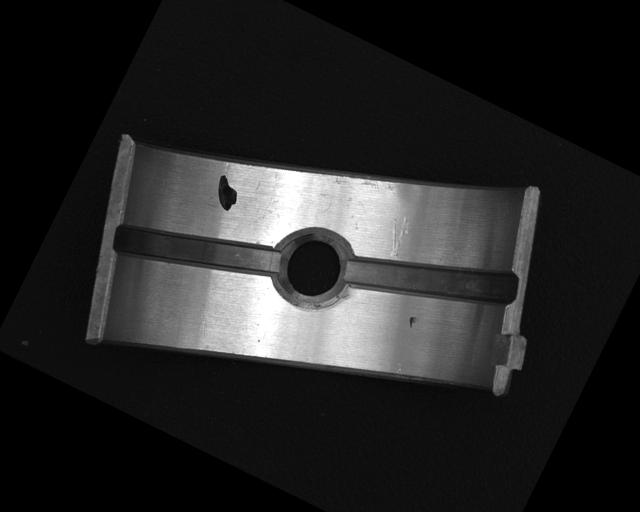blot: (207, 173, 245, 213)
bruise: (404, 314, 418, 329)
gap: (340, 206, 521, 352), (108, 186, 282, 319)
hole: (267, 221, 360, 320)
nick: (377, 209, 416, 259)
